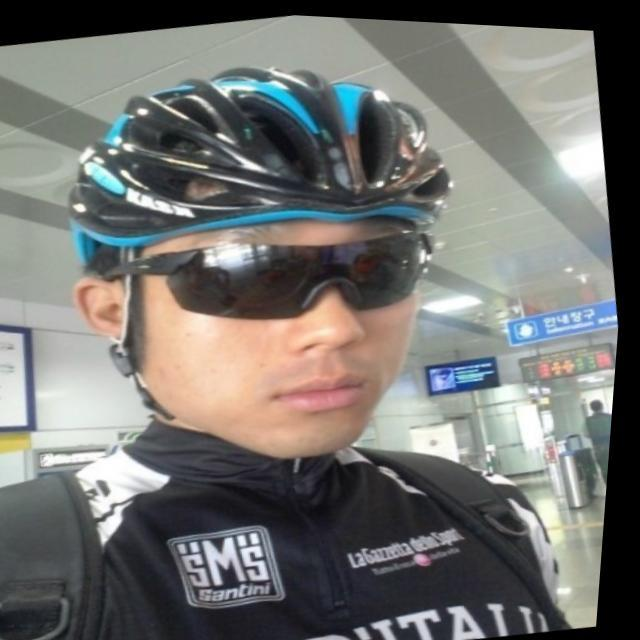Helmet: (64, 62, 455, 462)
